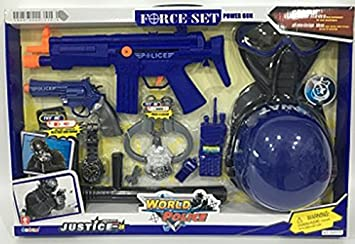Arma Falsa: (21, 26, 232, 111), (22, 76, 127, 139)
